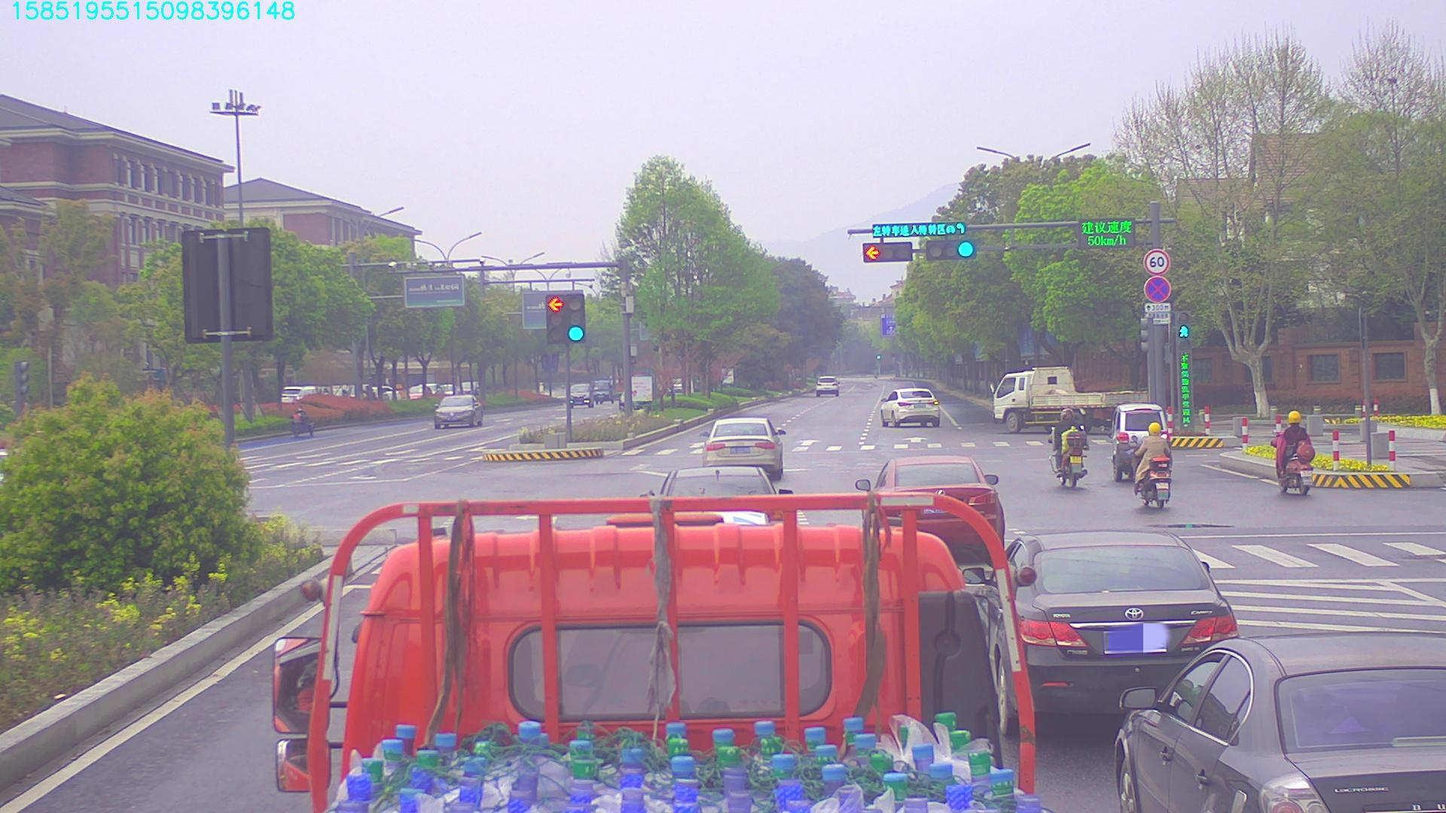green: (929, 242, 971, 260)
red: (860, 242, 908, 262)
wait_on: (870, 226, 963, 236)
